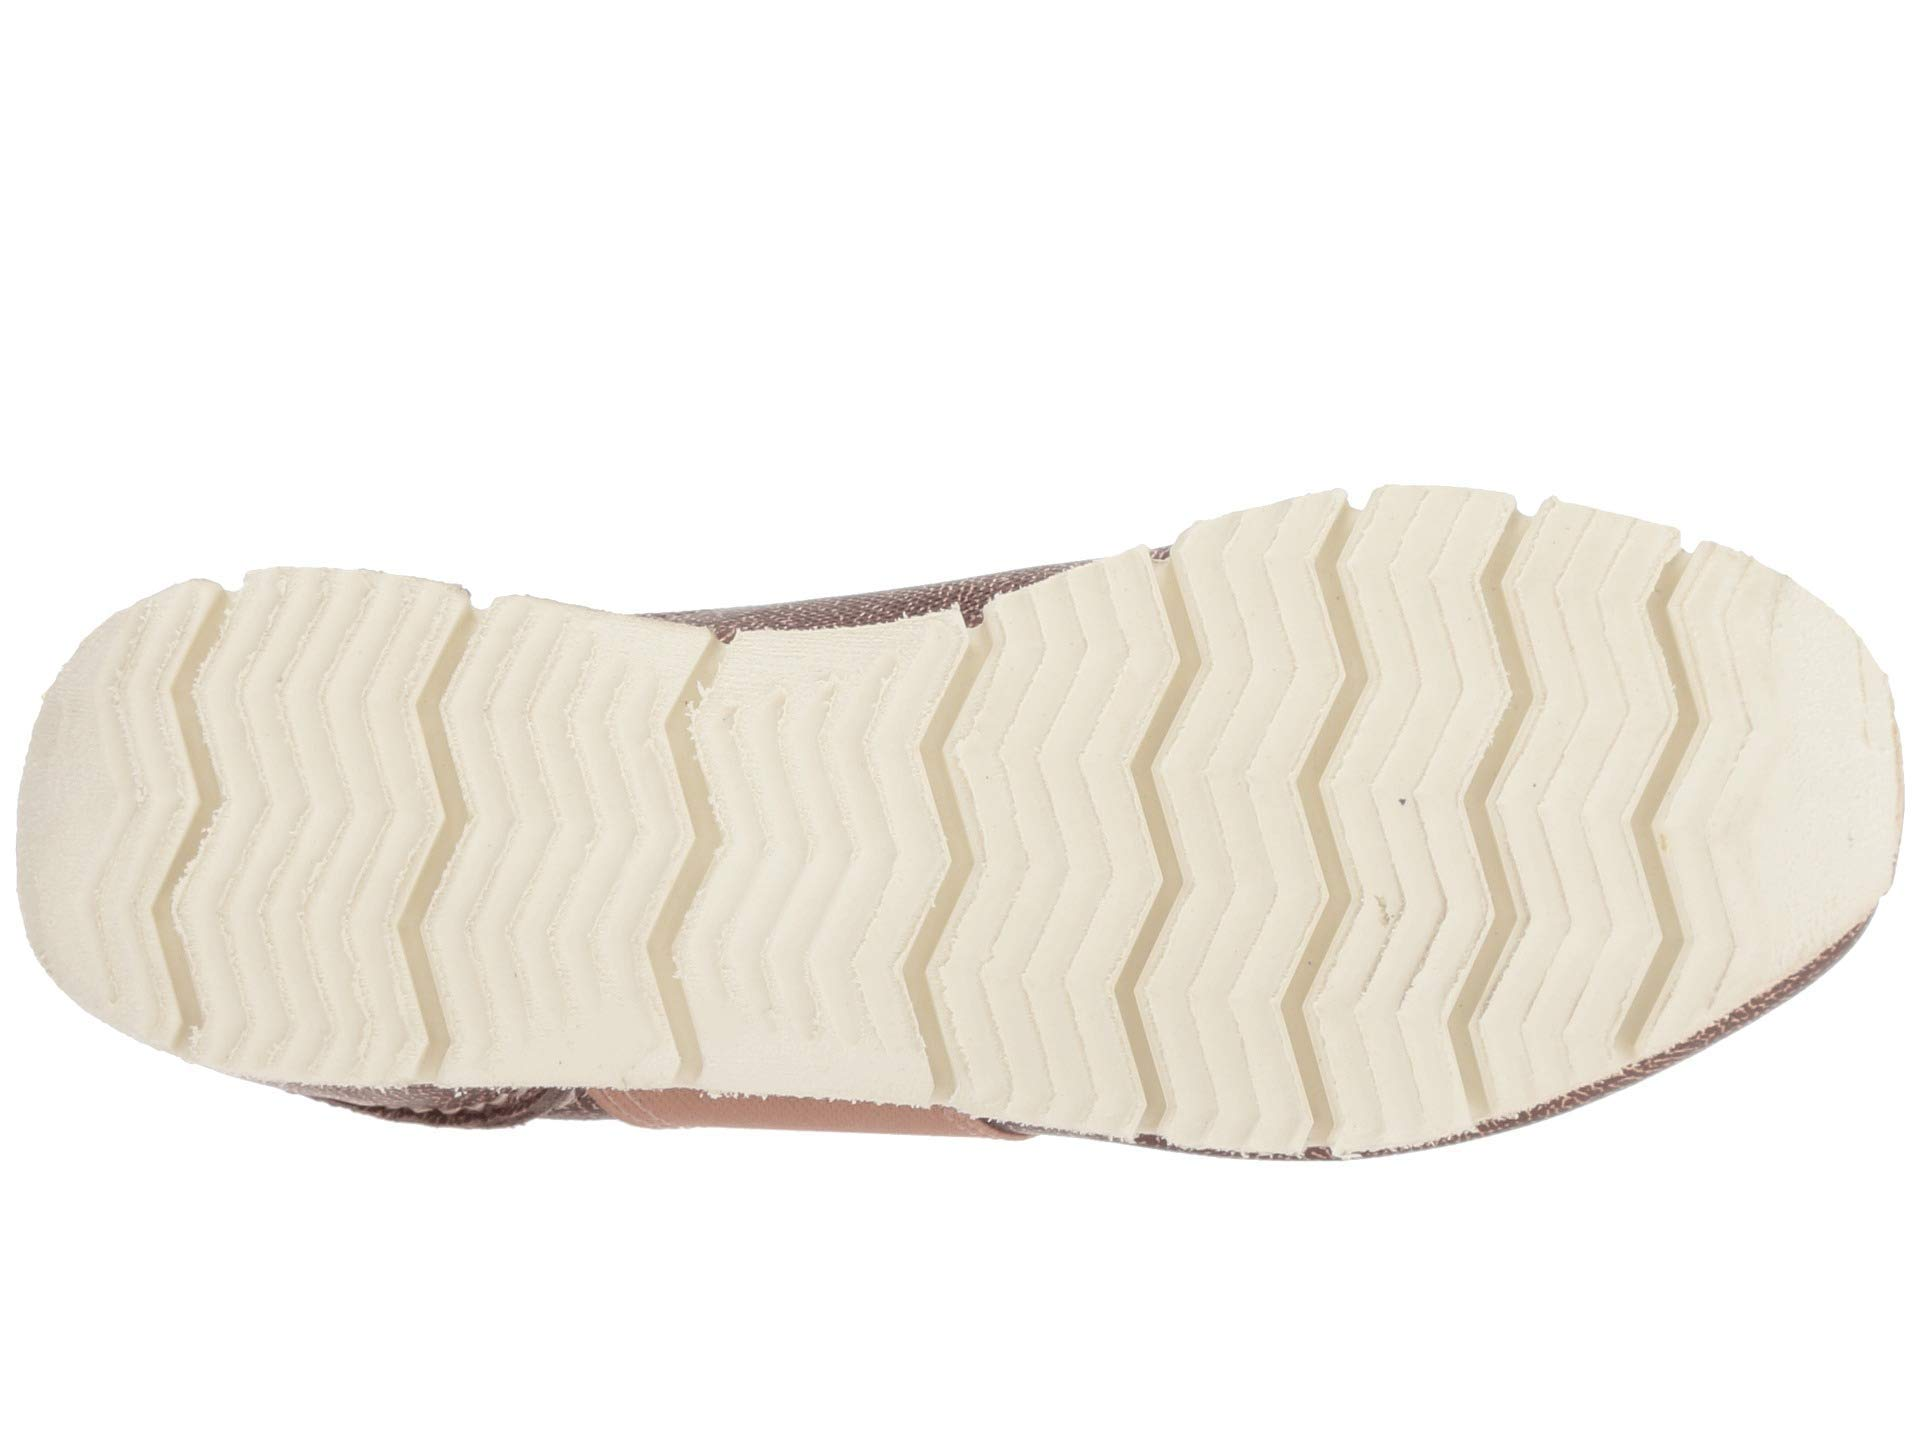chevron: (77, 625, 541, 1063)
